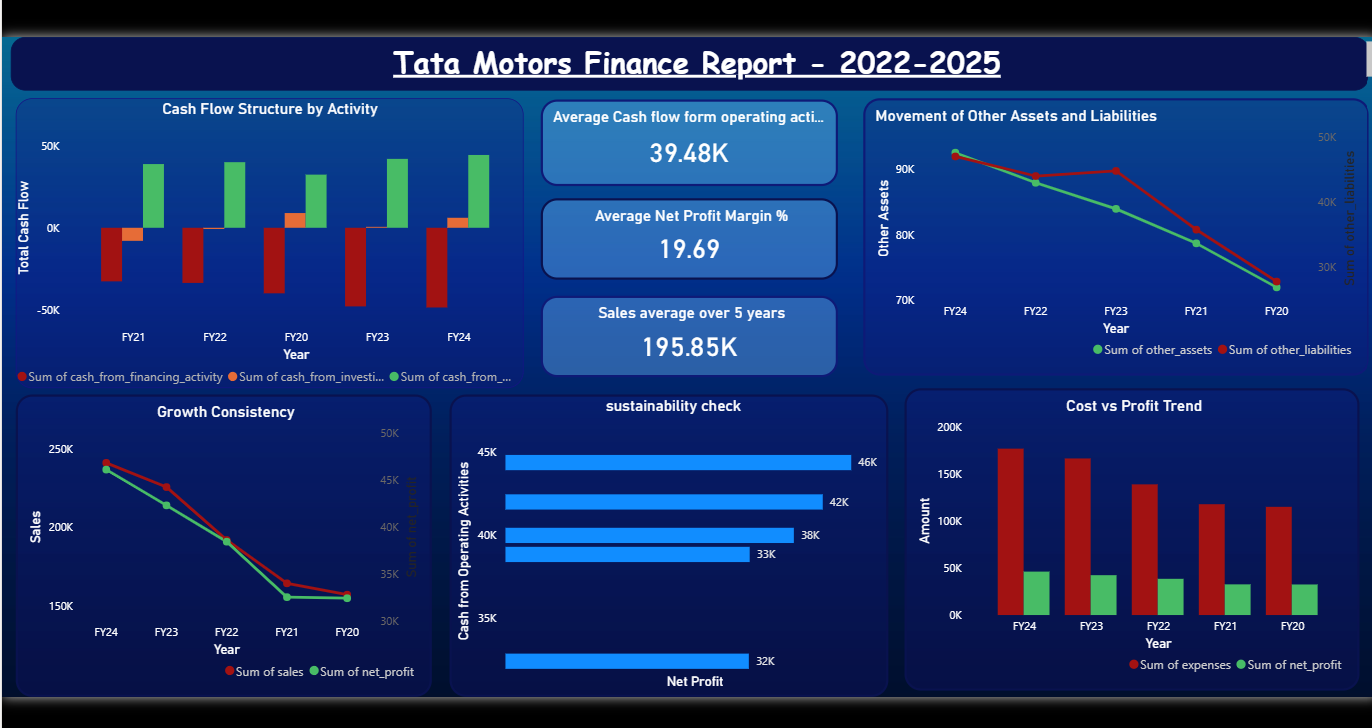

Layout of this report page (visuals, bound fields, positions):
{"tool":"powerbi","page":{"name":"Page 1","canvas":[1500,720],"ordinal":0},"visuals":[{"type":"textbox","box":[9.5,0,1481.2,58.6],"z":0},{"type":"card","title":"Sales average over 5 years","fields":{"Values":["Avg(income_statement.sales)"]},"box":[587.3,282.1,324.3,88.6],"z":1000},{"type":"card","title":"Average Net Profit Margin %","fields":{"Values":["Avg(income_statement.net_profit_margin_%)"]},"box":[587.3,175.8,324.3,88.6],"z":2000},{"type":"card","title":"Average Cash flow form operating activity","fields":{"Values":["Avg(cash_flow.cash_from_operating_activity)"]},"box":[587.3,68.1,324.3,94],"z":3000},{"type":"lineChart","title":"Growth Consistency","fields":{"Category":["income_statement.year"],"Y":["Sum(income_statement.sales)"],"Y2":["Sum(income_statement.net_profit)"]},"box":[15,389.7,453.8,329.8],"z":4000},{"type":"clusteredBarChart","title":"sustainability check","fields":{"Category":["tata_motors_kpis.cash_from_operating_activity"],"Y":["Sum(income_statement.net_profit)"]},"box":[487.8,389.7,478.3,329.8],"z":5000},{"type":"clusteredColumnChart","title":"Cash Flow Structure by Activity","fields":{"Category":["cash_flow.year"],"Y":["Sum(cash_flow.cash_from_financing_activity)","Sum(cash_flow.cash_from_investing_activity)","Sum(cash_flow.cash_from_operating_activity)"]},"box":[15,66.8,553.2,316.1],"z":6000},{"type":"clusteredColumnChart","title":"Cost vs Profit Trend","fields":{"Category":["income_statement.year"],"Y":["Sum(income_statement.expenses)","Sum(income_statement.net_profit)"]},"box":[983.8,382.9,496,329.8],"z":7000},{"type":"lineChart","title":"Movement of Other Assets and Liabilities","fields":{"Category":["balance_sheet.year"],"Y":["Sum(balance_sheet.other_assets)"],"Y2":["Sum(balance_sheet.other_liabilities)"]},"box":[938.9,66.8,551.9,302.5],"z":8000},{"type":"textbox","box":[421.1,0,750.8,51.8],"z":9000}]}

Visuals, with their boxes on the page's 1500x720 design canvas (x1, y1, x2, y2). These are canvas units, not pixel positions in the 1372x728 screenshot, which may show the page scaled, cropped or inside an application window:
textbox: bbox=[10, 0, 1491, 59]
"Sales average over 5 years" card: bbox=[587, 282, 912, 371]
"Average Net Profit Margin %" card: bbox=[587, 176, 912, 264]
"Average Cash flow form operating activity" card: bbox=[587, 68, 912, 162]
"Growth Consistency" lineChart: bbox=[15, 390, 469, 720]
"sustainability check" clusteredBarChart: bbox=[488, 390, 966, 720]
"Cash Flow Structure by Activity" clusteredColumnChart: bbox=[15, 67, 568, 383]
"Cost vs Profit Trend" clusteredColumnChart: bbox=[984, 383, 1480, 713]
"Movement of Other Assets and Liabilities" lineChart: bbox=[939, 67, 1491, 369]
textbox: bbox=[421, 0, 1172, 52]
